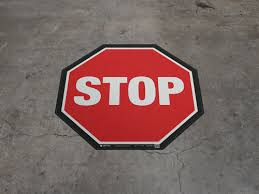SS: (59, 45, 202, 150)
